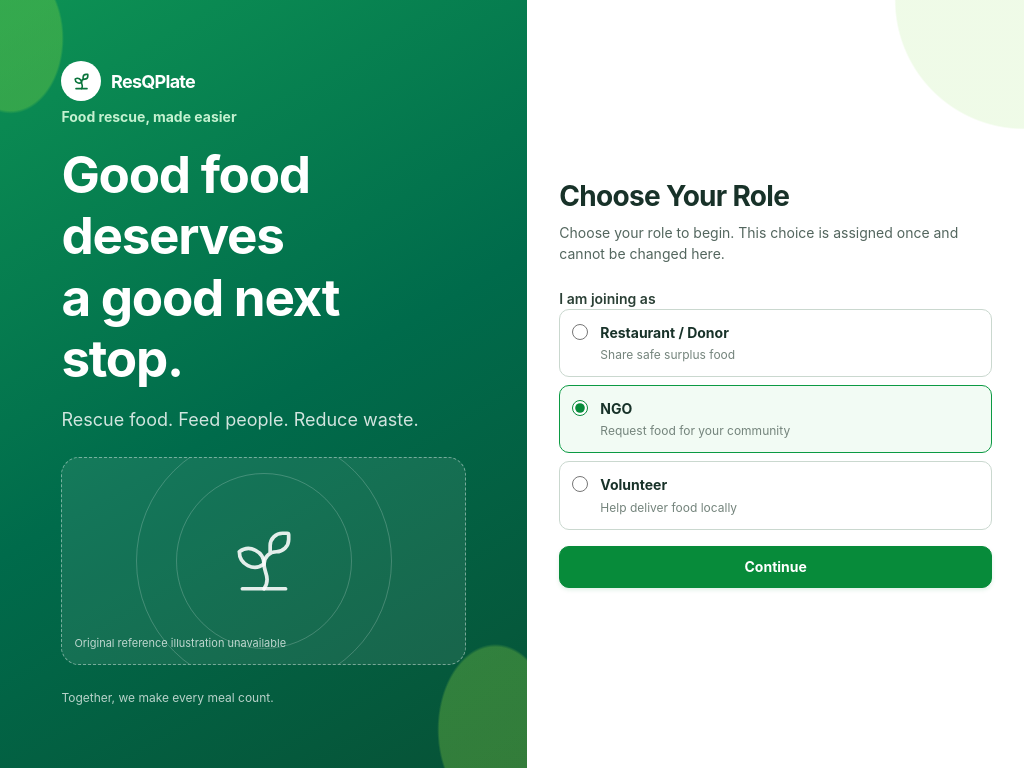
Scenario: missing application profile recovery › does not navigate when the RPC succeeds without making a profile readable
Click the button "Continue" at (776,567), box [559,546,992,588]
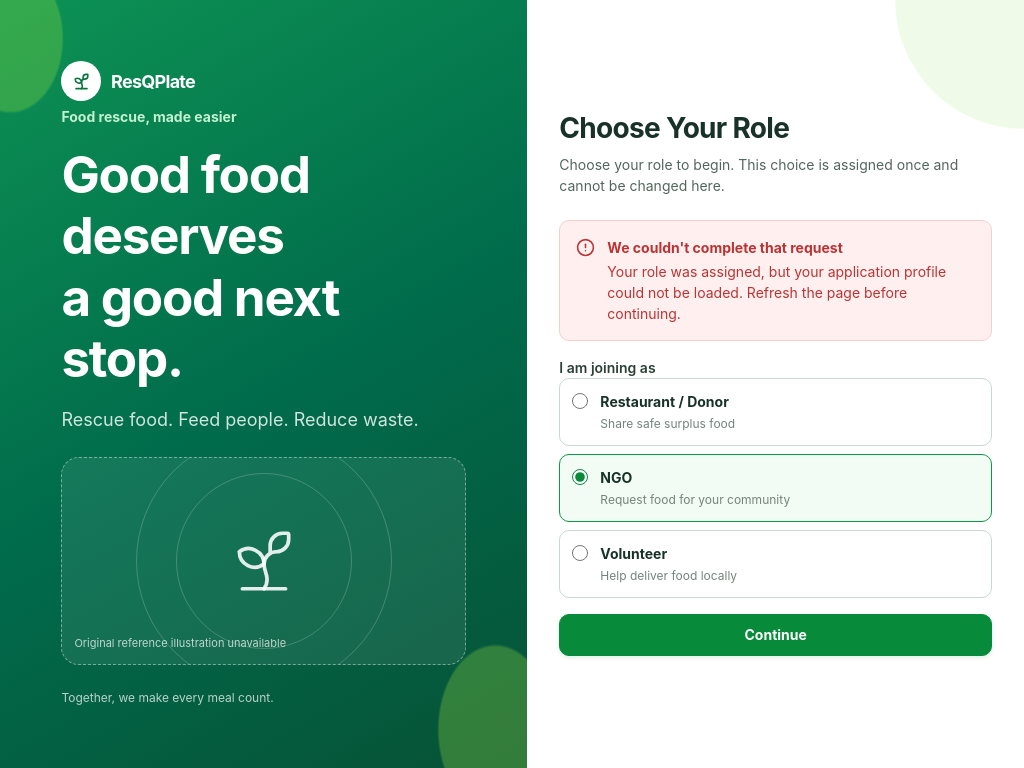
Expected: the heading "Choose Your Role" is shown, [559,111,789,145]
Expected: the text "role was assigned, but your application profile could not be loaded" is shown, [607,262,946,322]
